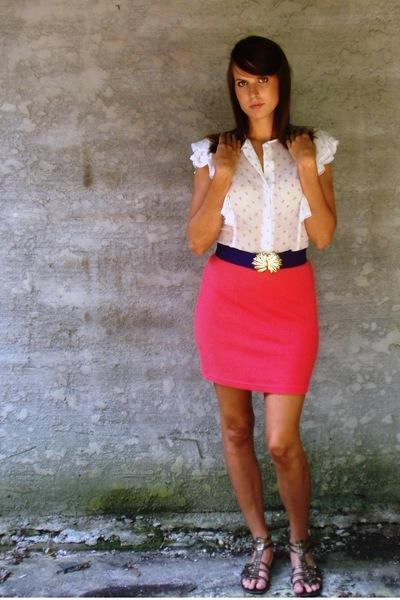shirt: (190, 130, 338, 271)
shoe: (238, 552, 323, 599)
skirt: (194, 260, 318, 394)
